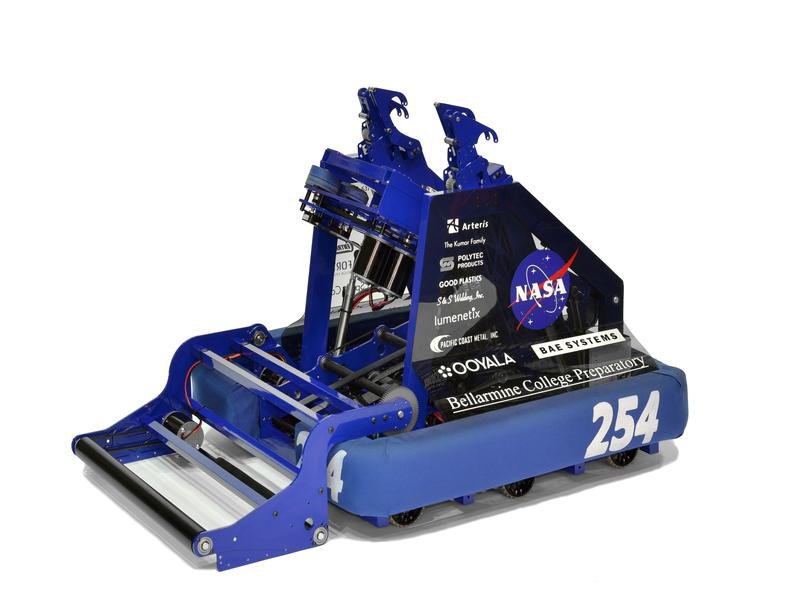robot: (71, 79, 699, 572)
